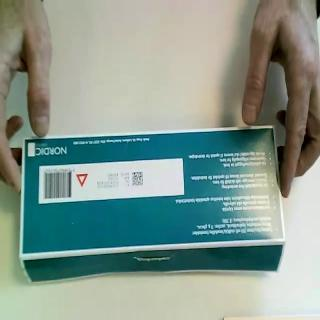metadon_hydrochlorid40mg: (19, 124, 288, 287)
